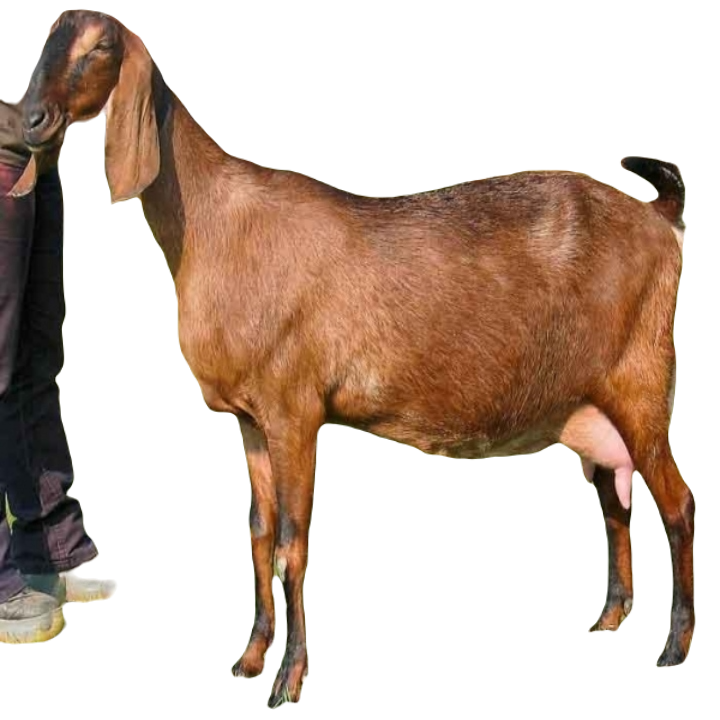Goat: (16, 3, 699, 713)
